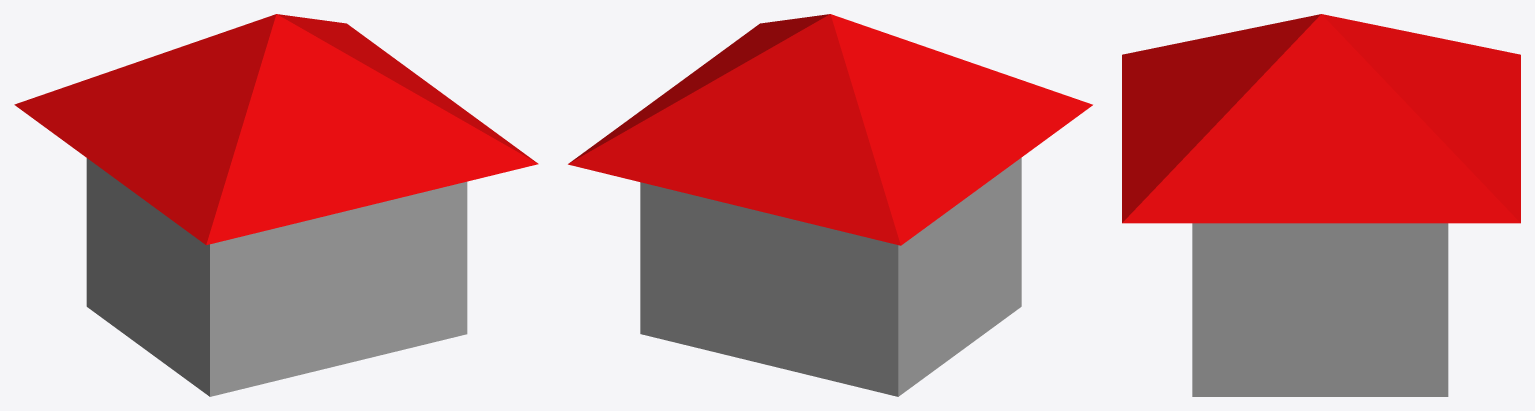
3 renders of one model, left to right at view 1: azimuth 30°, elevation 25°; view 2: azimuth 150°, elevation 25°; view 3: azimuth 270°, elevation 25°, orthographic. The views are drawn at different scales.
Parts seen in each view (by area): view 1: Cube.001; view 2: Cube.001; view 3: Cube.001.
Boxes of the visible parts, bbox=[...] form: Cube.001: bbox=[14, 14, 538, 396]; Cube.001: bbox=[568, 14, 1092, 396]; Cube.001: bbox=[1122, 14, 1520, 396].
Bounding box in the file's own units: 1267 × 1114 × 1267.
